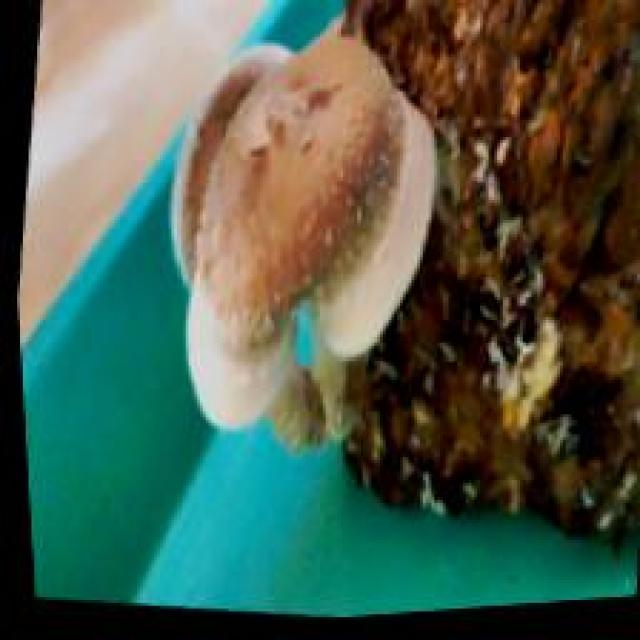death-cap: (169, 20, 437, 446)
